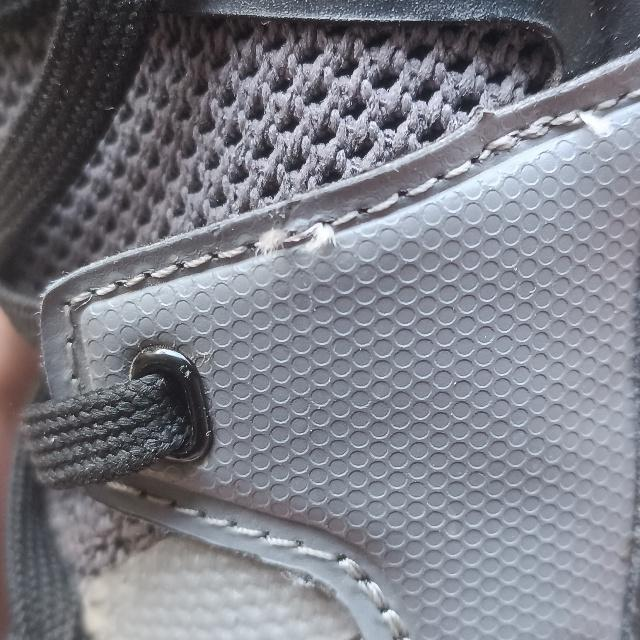broken-error: (252, 218, 340, 262)
